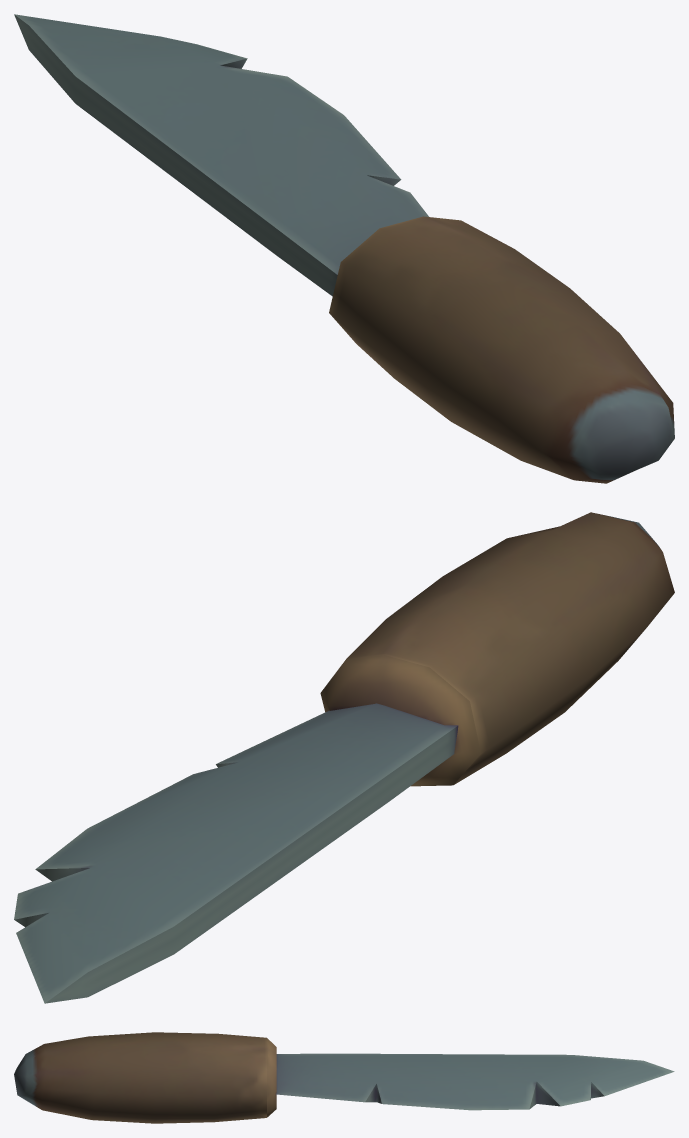
The model's file is SM_FW01_CampProp_Knife_01.fbx.
3 views of the same model, one above another, from view 1: azimuth 30°, elevation 25°; view 2: azimuth 150°, elevation 25°; view 3: azimuth 270°, elevation 25° (orthographic). The views are drawn at different scales.
Parts seen in each view (by area): view 1: SM_FW01_CampProp_Knife_01_LOD0; view 2: SM_FW01_CampProp_Knife_01_LOD0; view 3: SM_FW01_CampProp_Knife_01_LOD0.
Boxes of the visible parts, x1,y1,x2,y2 form: SM_FW01_CampProp_Knife_01_LOD0: (14,14,674,483); SM_FW01_CampProp_Knife_01_LOD0: (14,512,674,1003); SM_FW01_CampProp_Knife_01_LOD0: (14,1032,674,1123).
Size of what is drawn, in the model's own units: 0.1166 by 0.0765 by 0.5873.
